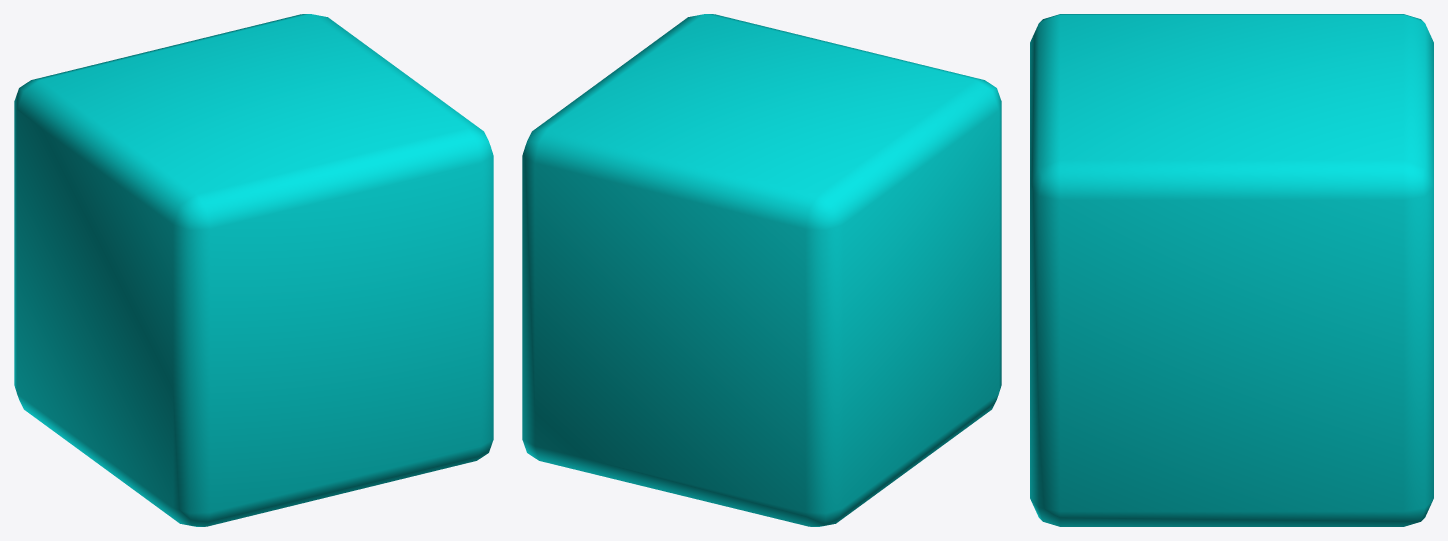
The model's file is 6die.fbx.
The picture shows the model from 3 angles, left to right: view 1: azimuth 30°, elevation 25°; view 2: azimuth 150°, elevation 25°; view 3: azimuth 270°, elevation 25°; orthographic projection. The views are drawn at different scales.
Visible parts, largest first — view 1: Cube; view 2: Cube; view 3: Cube.
Boxes of the visible parts, left/top/right/bottom form: Cube: left=14, top=14, right=493, bottom=526; Cube: left=522, top=14, right=1001, bottom=526; Cube: left=1030, top=14, right=1433, bottom=526.
Bounding box in the file's own units: 200 × 200 × 200.
